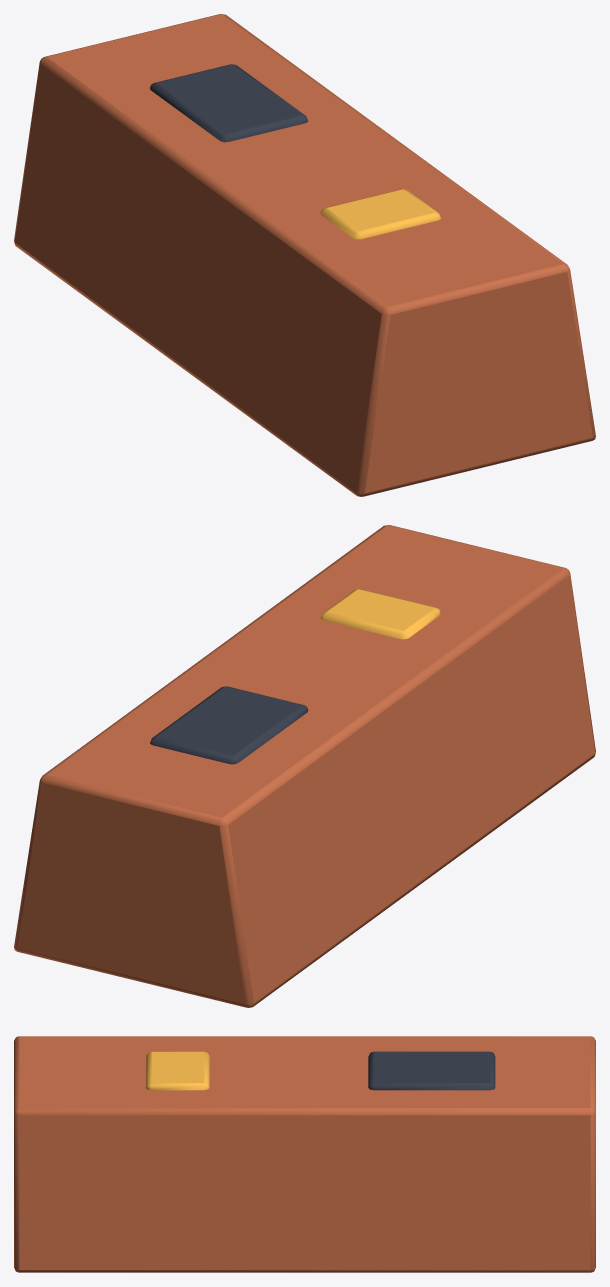
The model's file is ware_marsstahl.fbx.
The picture shows the model from 3 angles, top to bottom: view 1: azimuth 30°, elevation 25°; view 2: azimuth 150°, elevation 25°; view 3: azimuth 270°, elevation 25°; orthographic projection. The views are drawn at different scales.
Parts seen in each view (by area): view 1: ware_marsstahl_Koerper; view 2: ware_marsstahl_Koerper; view 3: ware_marsstahl_Koerper.
Boxes of the visible parts, x1,y1,x2,y2 form: ware_marsstahl_Koerper: [14, 14, 595, 496]; ware_marsstahl_Koerper: [14, 525, 595, 1007]; ware_marsstahl_Koerper: [14, 1036, 595, 1272].
Bounding box in the file's own units: 0.2185 × 0.165 × 0.55.
